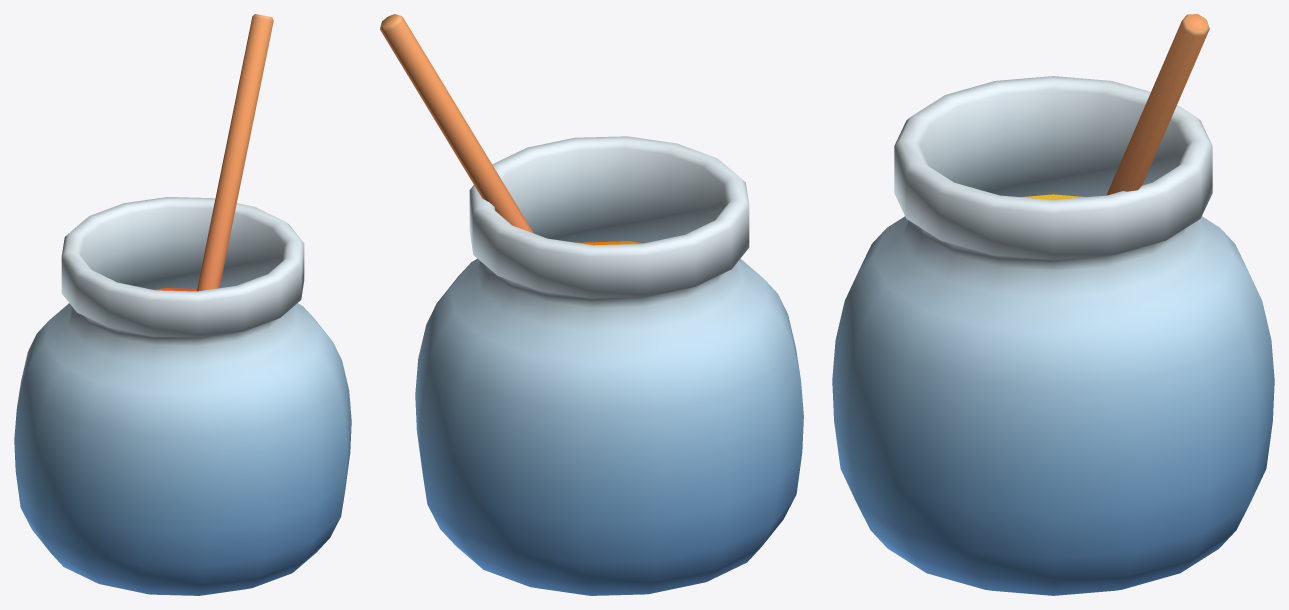
Rendered from honey_002.fbx.
3 views of the same model, side by side, from view 1: azimuth 30°, elevation 25°; view 2: azimuth 150°, elevation 25°; view 3: azimuth 270°, elevation 25° (orthographic). The views are drawn at different scales.
Parts seen in each view (by area): view 1: honey_002; view 2: honey_002; view 3: honey_002.
Part boxes in pixels (x1=…): honey_002: x1=14, y1=14, x2=351, y2=595; honey_002: x1=380, y1=14, x2=803, y2=595; honey_002: x1=832, y1=14, x2=1274, y2=595.
Bounding box in the file's own units: 15.59 × 15.59 × 23.18.
